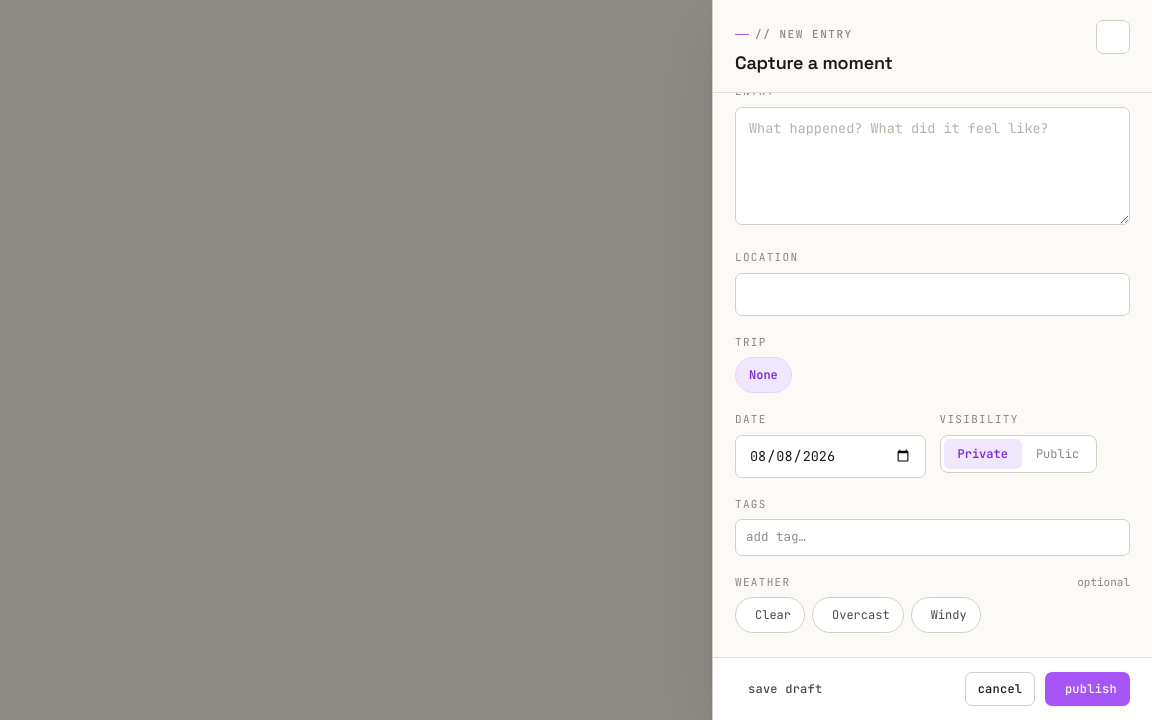
Test: AppNewEntry › removes a tag when its remove button is clicked
This screenshot has width=1152, height=720.
(page scrolled)
Type "iceland" into the field with placeholder "add tag…" at (932, 538), box [746,528,1119,547]
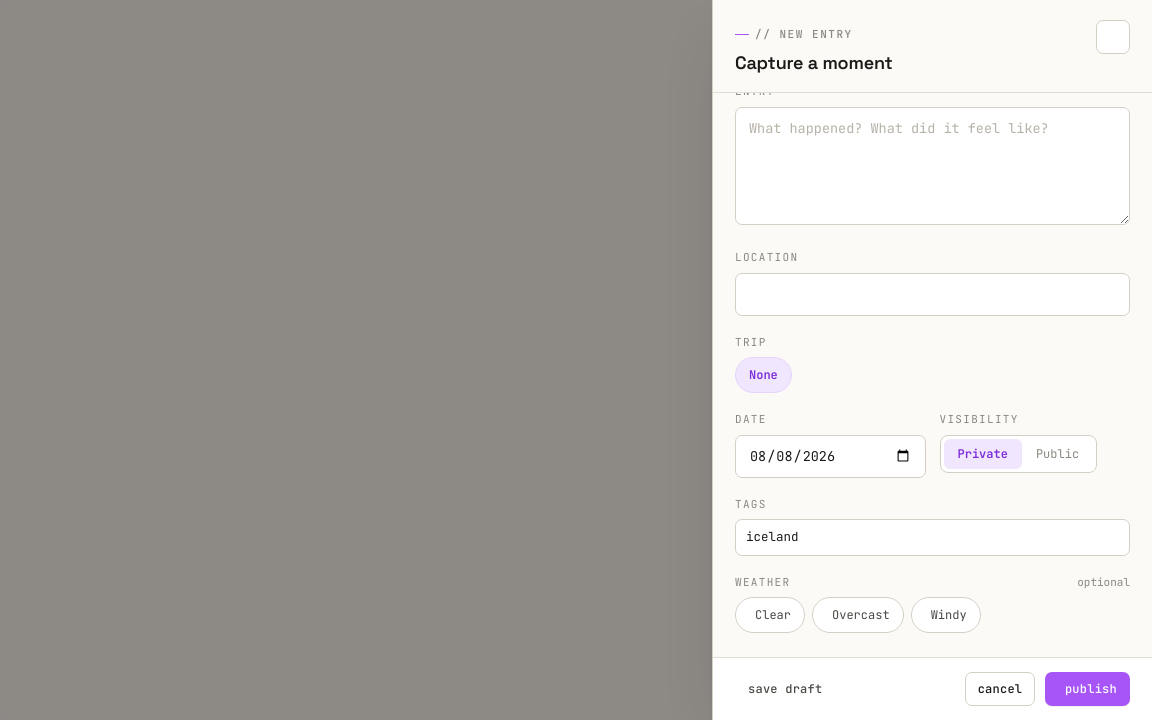
Press Enter in the field below "Tags", box [746,528,1119,547]
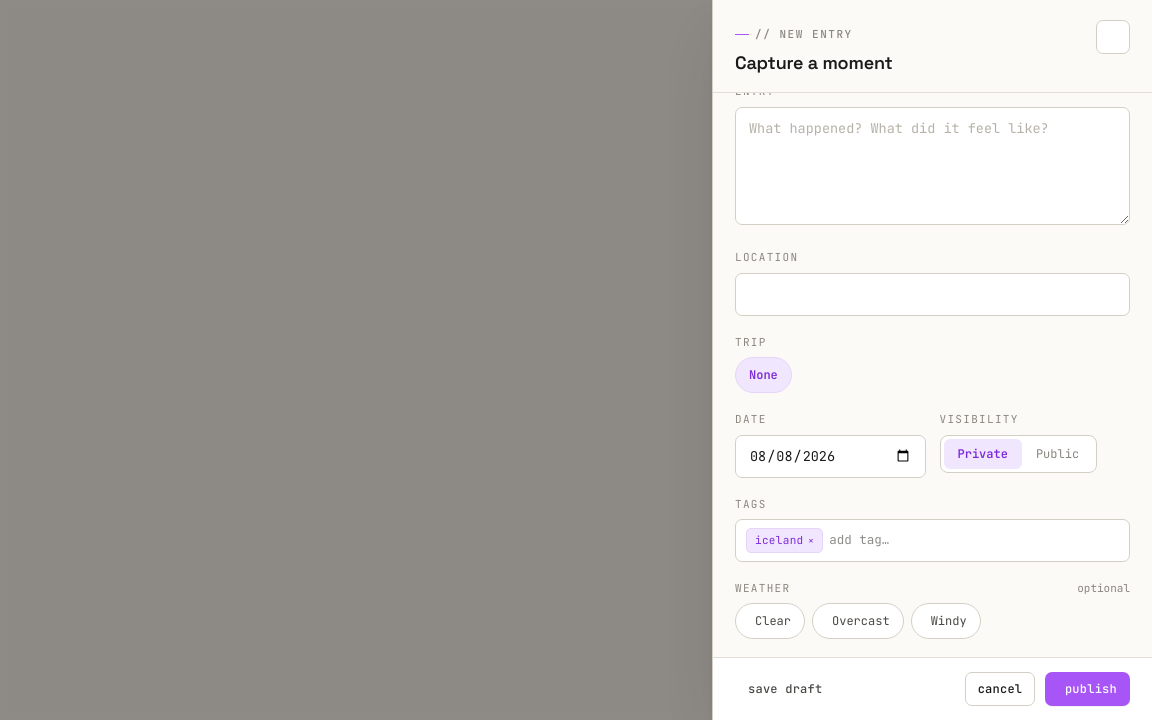
Click the button with class "tag-x" at (811, 540), box [808,533,814,548]
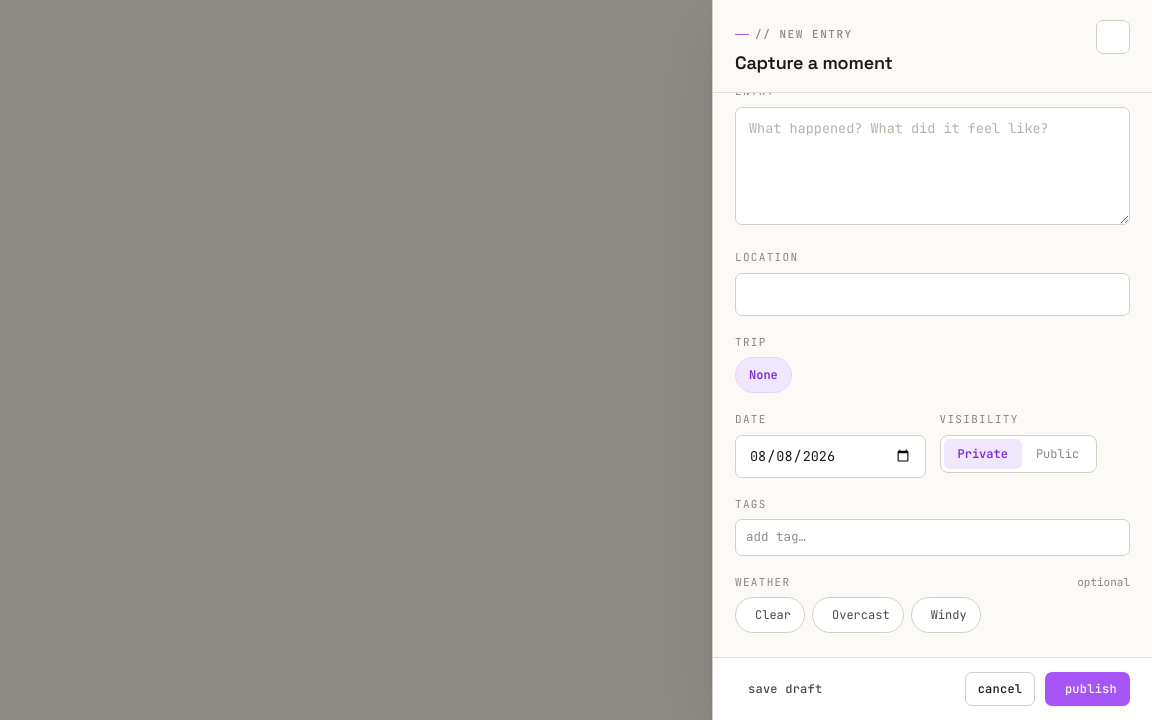
Result: the element with class "tags-input" no longer shows "iceland"
